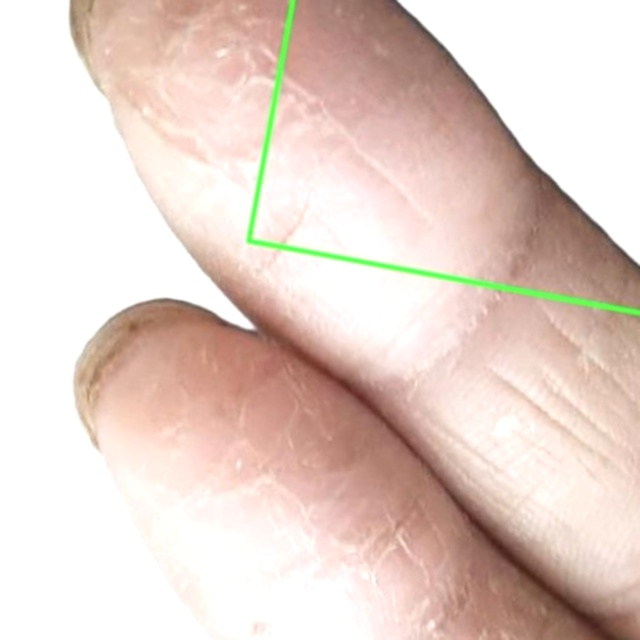Contact Dermatitis: (248, 0, 639, 313)
